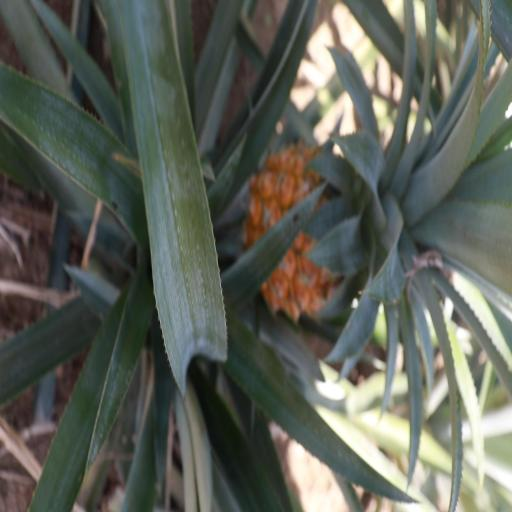Pineapple - v8 v1: (247, 127, 512, 312)
